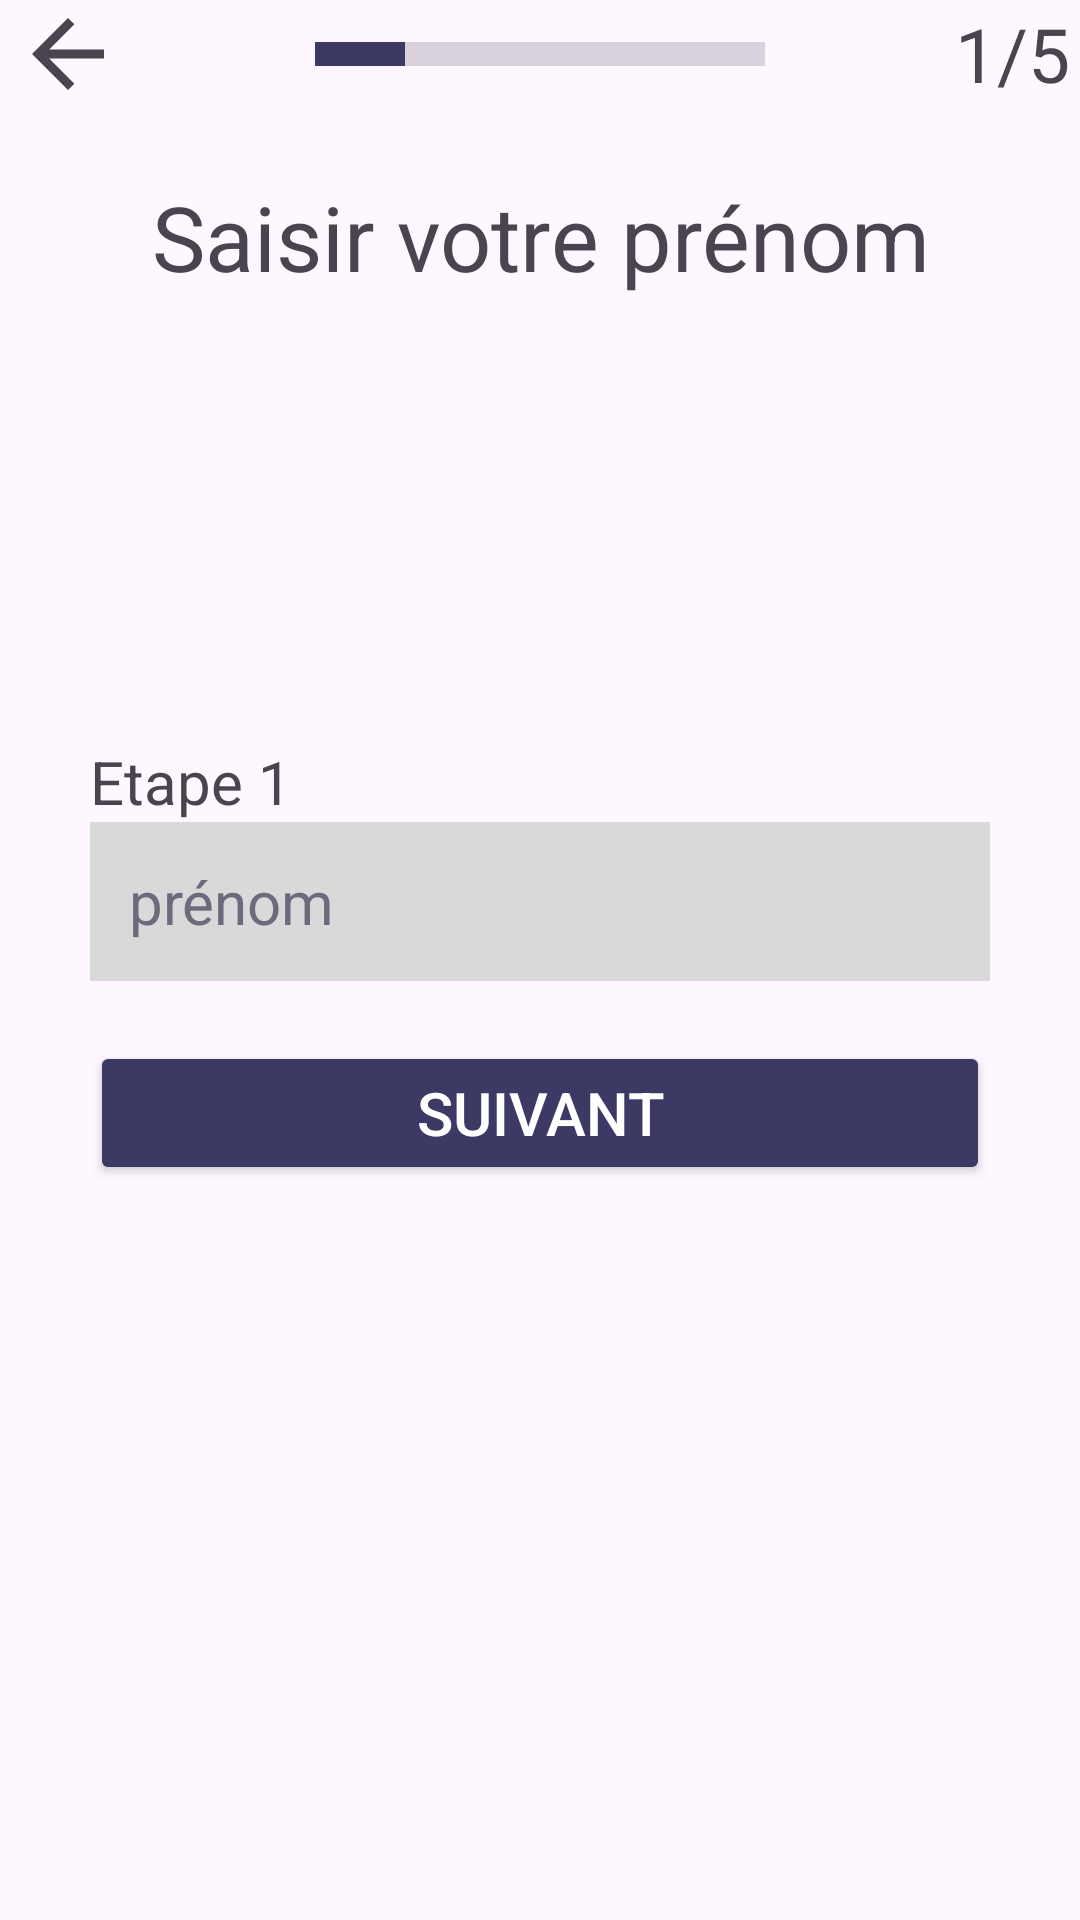

Locate icon controls on the screen. Image size 1080px×1920px, boxes as bbox(x1, y1, x2, y2).
ghost app back arrow: bbox(32, 18, 104, 90)
